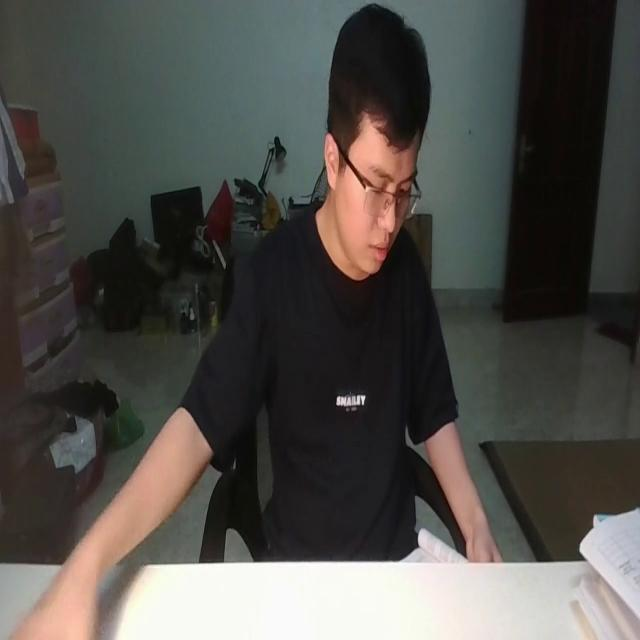book: (396, 518, 474, 564)
student: (26, 9, 498, 640)
